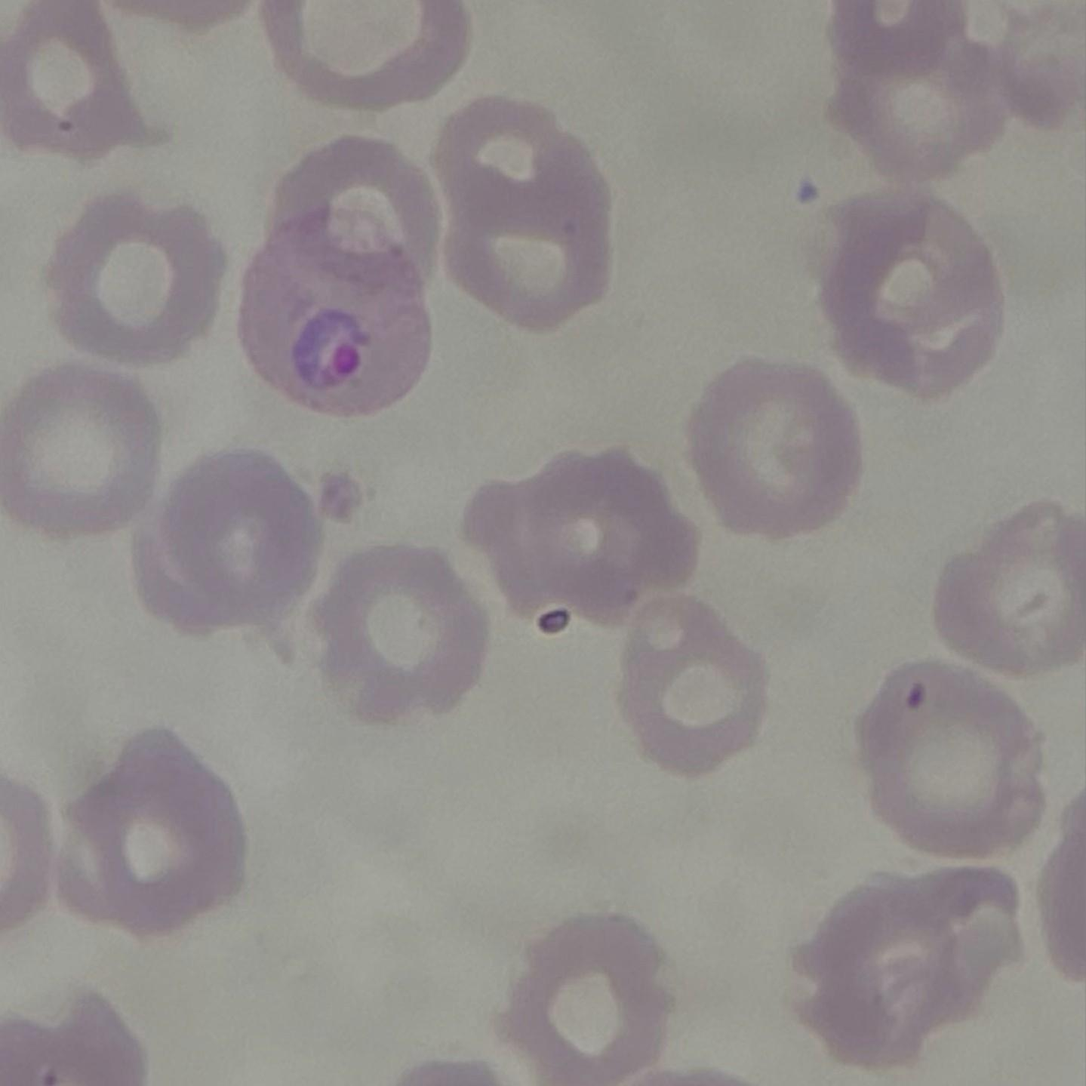Infected: (236, 212, 439, 424)
Uninfected: (438, 91, 622, 332), (792, 874, 1018, 1067), (468, 451, 698, 625), (820, 190, 1001, 402), (60, 728, 247, 932), (855, 662, 1040, 860), (126, 449, 310, 639), (684, 358, 869, 541), (43, 192, 226, 368), (325, 534, 483, 723), (3, 358, 159, 543), (272, 127, 438, 296), (508, 912, 661, 1086), (931, 506, 1086, 674), (616, 595, 746, 781), (0, 0, 141, 162)
